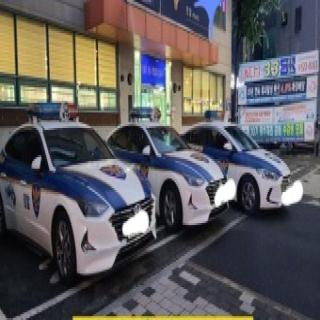Police_car: (0, 103, 156, 283), (102, 107, 230, 231), (178, 109, 302, 215)
